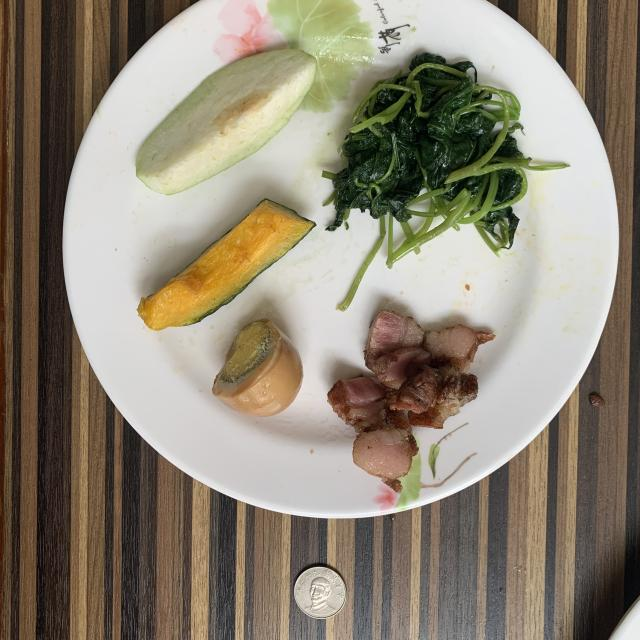coin: (294, 566, 346, 619)
grilled pork: (328, 310, 492, 491)
guava -sliced-: (136, 49, 316, 195)
pumpkin: (138, 199, 315, 330)
soy egg: (212, 319, 302, 416)
sweet potato leaves: (322, 52, 568, 310)
